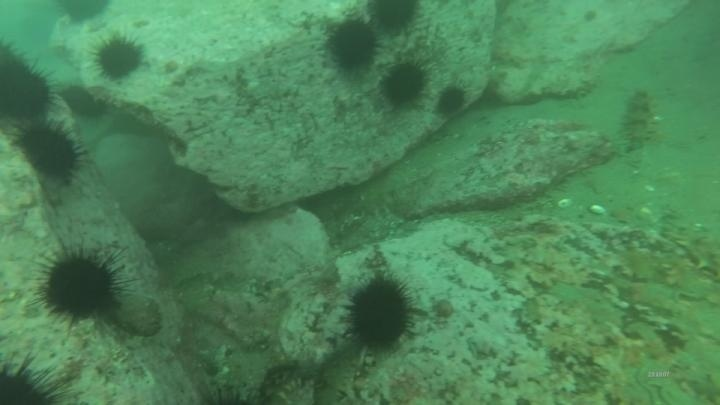echinus: (35, 245, 127, 326), (343, 274, 417, 354), (0, 42, 57, 125), (13, 119, 85, 184), (1, 349, 71, 404), (323, 17, 381, 75), (92, 33, 146, 82), (378, 59, 430, 109), (366, 1, 422, 35), (59, 83, 107, 121), (54, 0, 113, 27), (434, 83, 469, 118)
holothurian: (312, 341, 373, 405), (256, 358, 329, 404), (664, 221, 720, 279), (618, 87, 660, 155)
